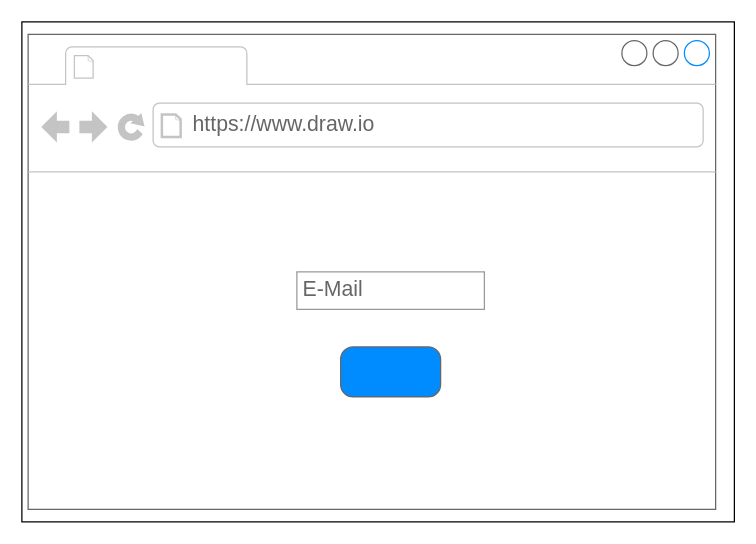
Image size: 756x544. Some labels were removed from this diagram. The shapes that lost their labels are listed below. From the top down, each one's box as (x1, y1, x2, y2) in pixels, then its label:
(102, 48, 241, 82): Page 0
(339, 346, 441, 397): Login
